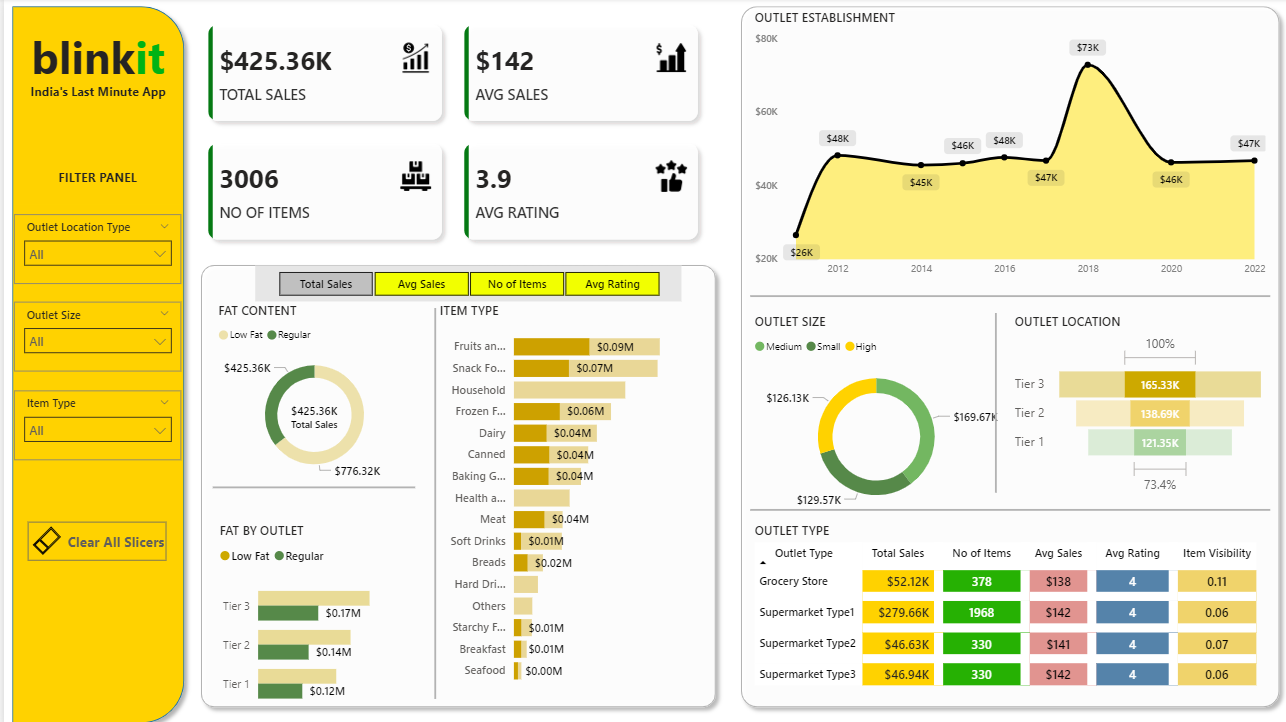

What the dashboard file says about the page in this screenshot:
{"tool":"powerbi","page":{"name":"Page 1","canvas":[1400,800],"ordinal":0},"visuals":[{"type":"shape","box":[0,0,205.6,800],"z":0},{"type":"textbox","box":[22.5,25.5,159.1,93.1],"z":1000},{"type":"textbox","box":[0,87.1,205.6,31.5],"z":2000},{"type":"cardVisual","fields":{"Data":["BlinkIT Grocery Data.Total Sales","BlinkIT Grocery Data.Avg Sales","BlinkIT Grocery Data.No of Items","BlinkIT Grocery Data.Avg Rating"]},"box":[205.9,12.3,569.9,269.9],"z":3000},{"type":"shape","box":[205.9,282.2,579.4,500.3],"z":4000},{"type":"donutChart","title":"FAT CONTENT","fields":{"Y":["BlinkIT Grocery Data.Total Sales"],"Category":["BlinkIT Grocery Data.Item Fat Content"]},"box":[229,331.3,219.5,201.8],"z":5000},{"type":"slicer","fields":{"Values":["Metrics.Metrics"]},"box":[274,291.8,464.9,39.5],"z":6000},{"type":"cardVisual","fields":{"Data":["BlinkIT Grocery Data.Total Sales"]},"box":[295.8,428.1,85.9,57.3],"z":7000},{"type":"clusteredBarChart","title":"FAT BY OUTLET","fields":{"Y":["BlinkIT Grocery Data.Total Sales"],"Category":["BlinkIT Grocery Data.Outlet Location Type"],"Series":["BlinkIT Grocery Data.Item Fat Content"]},"box":[230.4,571.2,218.1,216.8],"z":8000},{"type":"shape","box":[227.7,515.3,220.9,36.8],"z":9000},{"type":"shape","box":[458.1,338.1,24.5,426.7],"z":10000},{"type":"barChart","title":"ITEM TYPE","fields":{"Y":["BlinkIT Grocery Data.Total Sales"],"Category":["BlinkIT Grocery Data.Item Type"]},"box":[470.4,331.3,291.8,426.7],"z":11000},{"type":"shape","box":[794.8,0,605.3,782.6],"z":12000},{"type":"lineChart","title":"OUTLET ESTABLISHMENT","fields":{"Y":["BlinkIT Grocery Data.Total Sales"],"Category":["BlinkIT Grocery Data.Outlet Establishment Year"]},"box":[813.9,12.3,567.1,299.9],"z":13000},{"type":"shape","box":[813.9,306.8,567.1,36.8],"z":14000},{"type":"donutChart","title":"OUTLET SIZE","fields":{"Category":["BlinkIT Grocery Data.Outlet Size"],"Y":["BlinkIT Grocery Data.Total Sales"]},"box":[813.9,343.6,275.4,225],"z":15000},{"type":"shape","box":[1074.3,343.6,15,196.3],"z":16000},{"type":"funnel","title":"OUTLET LOCATION","fields":{"Y":["Sum(BlinkIT Grocery Data.Sales)"],"Category":["BlinkIT Grocery Data.Outlet Location Type"]},"box":[1097.5,343.6,283.6,201.8],"z":17000},{"type":"shape","box":[813.9,539.9,567.1,36.8],"z":18000},{"type":"pivotTable","title":"OUTLET TYPE","fields":{"Rows":["BlinkIT Grocery Data.Outlet Type"],"Values":["BlinkIT Grocery Data.Total Sales","BlinkIT Grocery Data.No of Items","BlinkIT Grocery Data.Avg Sales","BlinkIT Grocery Data.Avg Rating","Avg(BlinkIT Grocery Data.Item Visibility)"]},"box":[813.9,571.2,567.1,195],"z":19000},{"type":"slicer","fields":{"Values":["BlinkIT Grocery Data.Outlet Location Type"]},"box":[10.9,235.9,182.7,76.3],"z":20000},{"type":"slicer","fields":{"Values":["BlinkIT Grocery Data.Outlet Size"]},"box":[10.9,331.3,182.7,76.3],"z":21000},{"type":"slicer","fields":{"Values":["BlinkIT Grocery Data.Item Type"]},"box":[10.9,428.1,182.7,76.3],"z":22000},{"type":"textbox","box":[10.9,181.3,182.7,43.6],"z":24000},{"type":"actionButton","box":[25.9,571.2,151.3,42.3],"z":24001}]}

Visuals, with their boxes in screenshot pixels (x1, y1, x2, y2), scaled from the page's 1400x800 canvas onto the 1286x722 screenshot:
shape: 0 0 189 721
textbox: 21 23 167 107
textbox: 0 79 189 107
cardVisual - BlinkIT Grocery Data.Total Sales x BlinkIT Grocery Data.Avg Sales: 189 11 713 255
shape: 189 255 721 706
"FAT CONTENT" donutChart: 210 299 412 481
slicer - Metrics.Metrics: 252 263 679 299
cardVisual - BlinkIT Grocery Data.Total Sales: 272 386 351 438
"FAT BY OUTLET" clusteredBarChart: 212 516 412 711
shape: 209 465 412 498
shape: 421 305 443 690
"ITEM TYPE" barChart: 432 299 700 684
shape: 730 0 1285 706
"OUTLET ESTABLISHMENT" lineChart: 748 11 1269 282
shape: 748 277 1269 310
"OUTLET SIZE" donutChart: 748 310 1001 513
shape: 987 310 1001 487
"OUTLET LOCATION" funnel: 1008 310 1269 492
shape: 748 487 1269 520
"OUTLET TYPE" pivotTable: 748 516 1269 691
slicer - BlinkIT Grocery Data.Outlet Location Type: 10 213 178 282
slicer - BlinkIT Grocery Data.Outlet Size: 10 299 178 368
slicer - BlinkIT Grocery Data.Item Type: 10 386 178 455
textbox: 10 164 178 203
actionButton: 24 516 163 554
